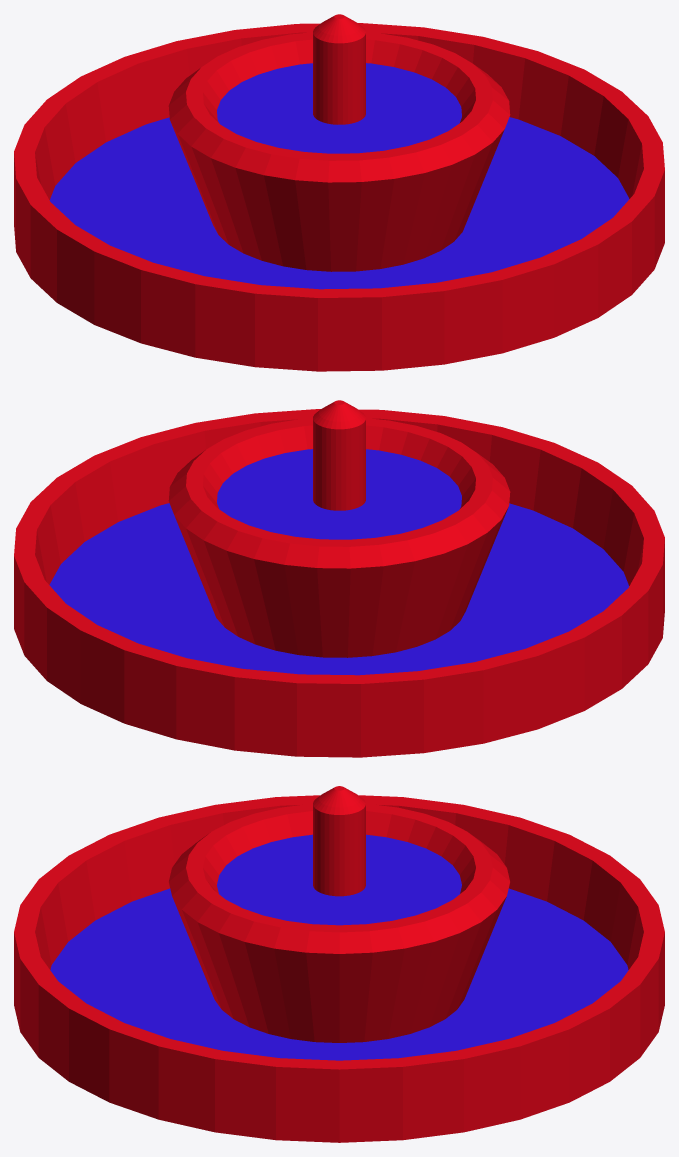
File: Fountain.fbx
3 renders of one model, top to bottom at view 1: azimuth 30°, elevation 25°; view 2: azimuth 150°, elevation 25°; view 3: azimuth 270°, elevation 25°, orthographic.
Parts seen in each view (by area): view 1: Cylinder; view 2: Cylinder; view 3: Cylinder.
Part boxes in pixels (bbox=[...]): Cylinder: bbox=[14, 14, 664, 371]; Cylinder: bbox=[14, 400, 664, 757]; Cylinder: bbox=[14, 786, 664, 1142].
Bounding box in the file's own units: 1525 × 561 × 1525.
